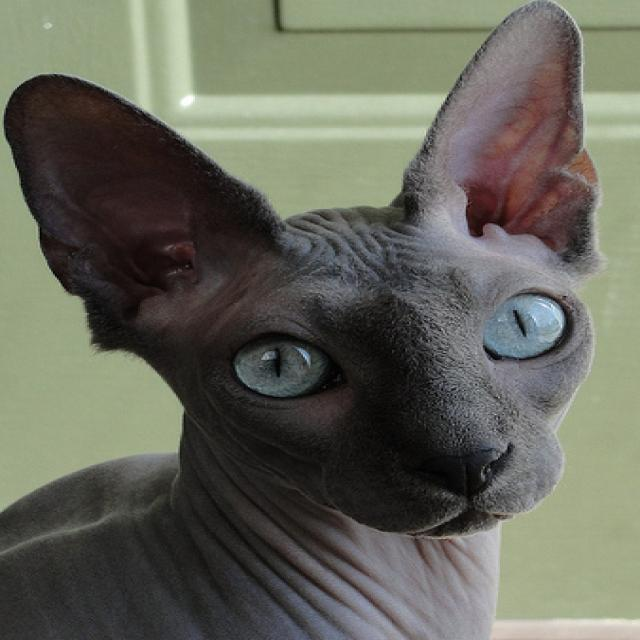Sphynx: (0, 0, 608, 640)
